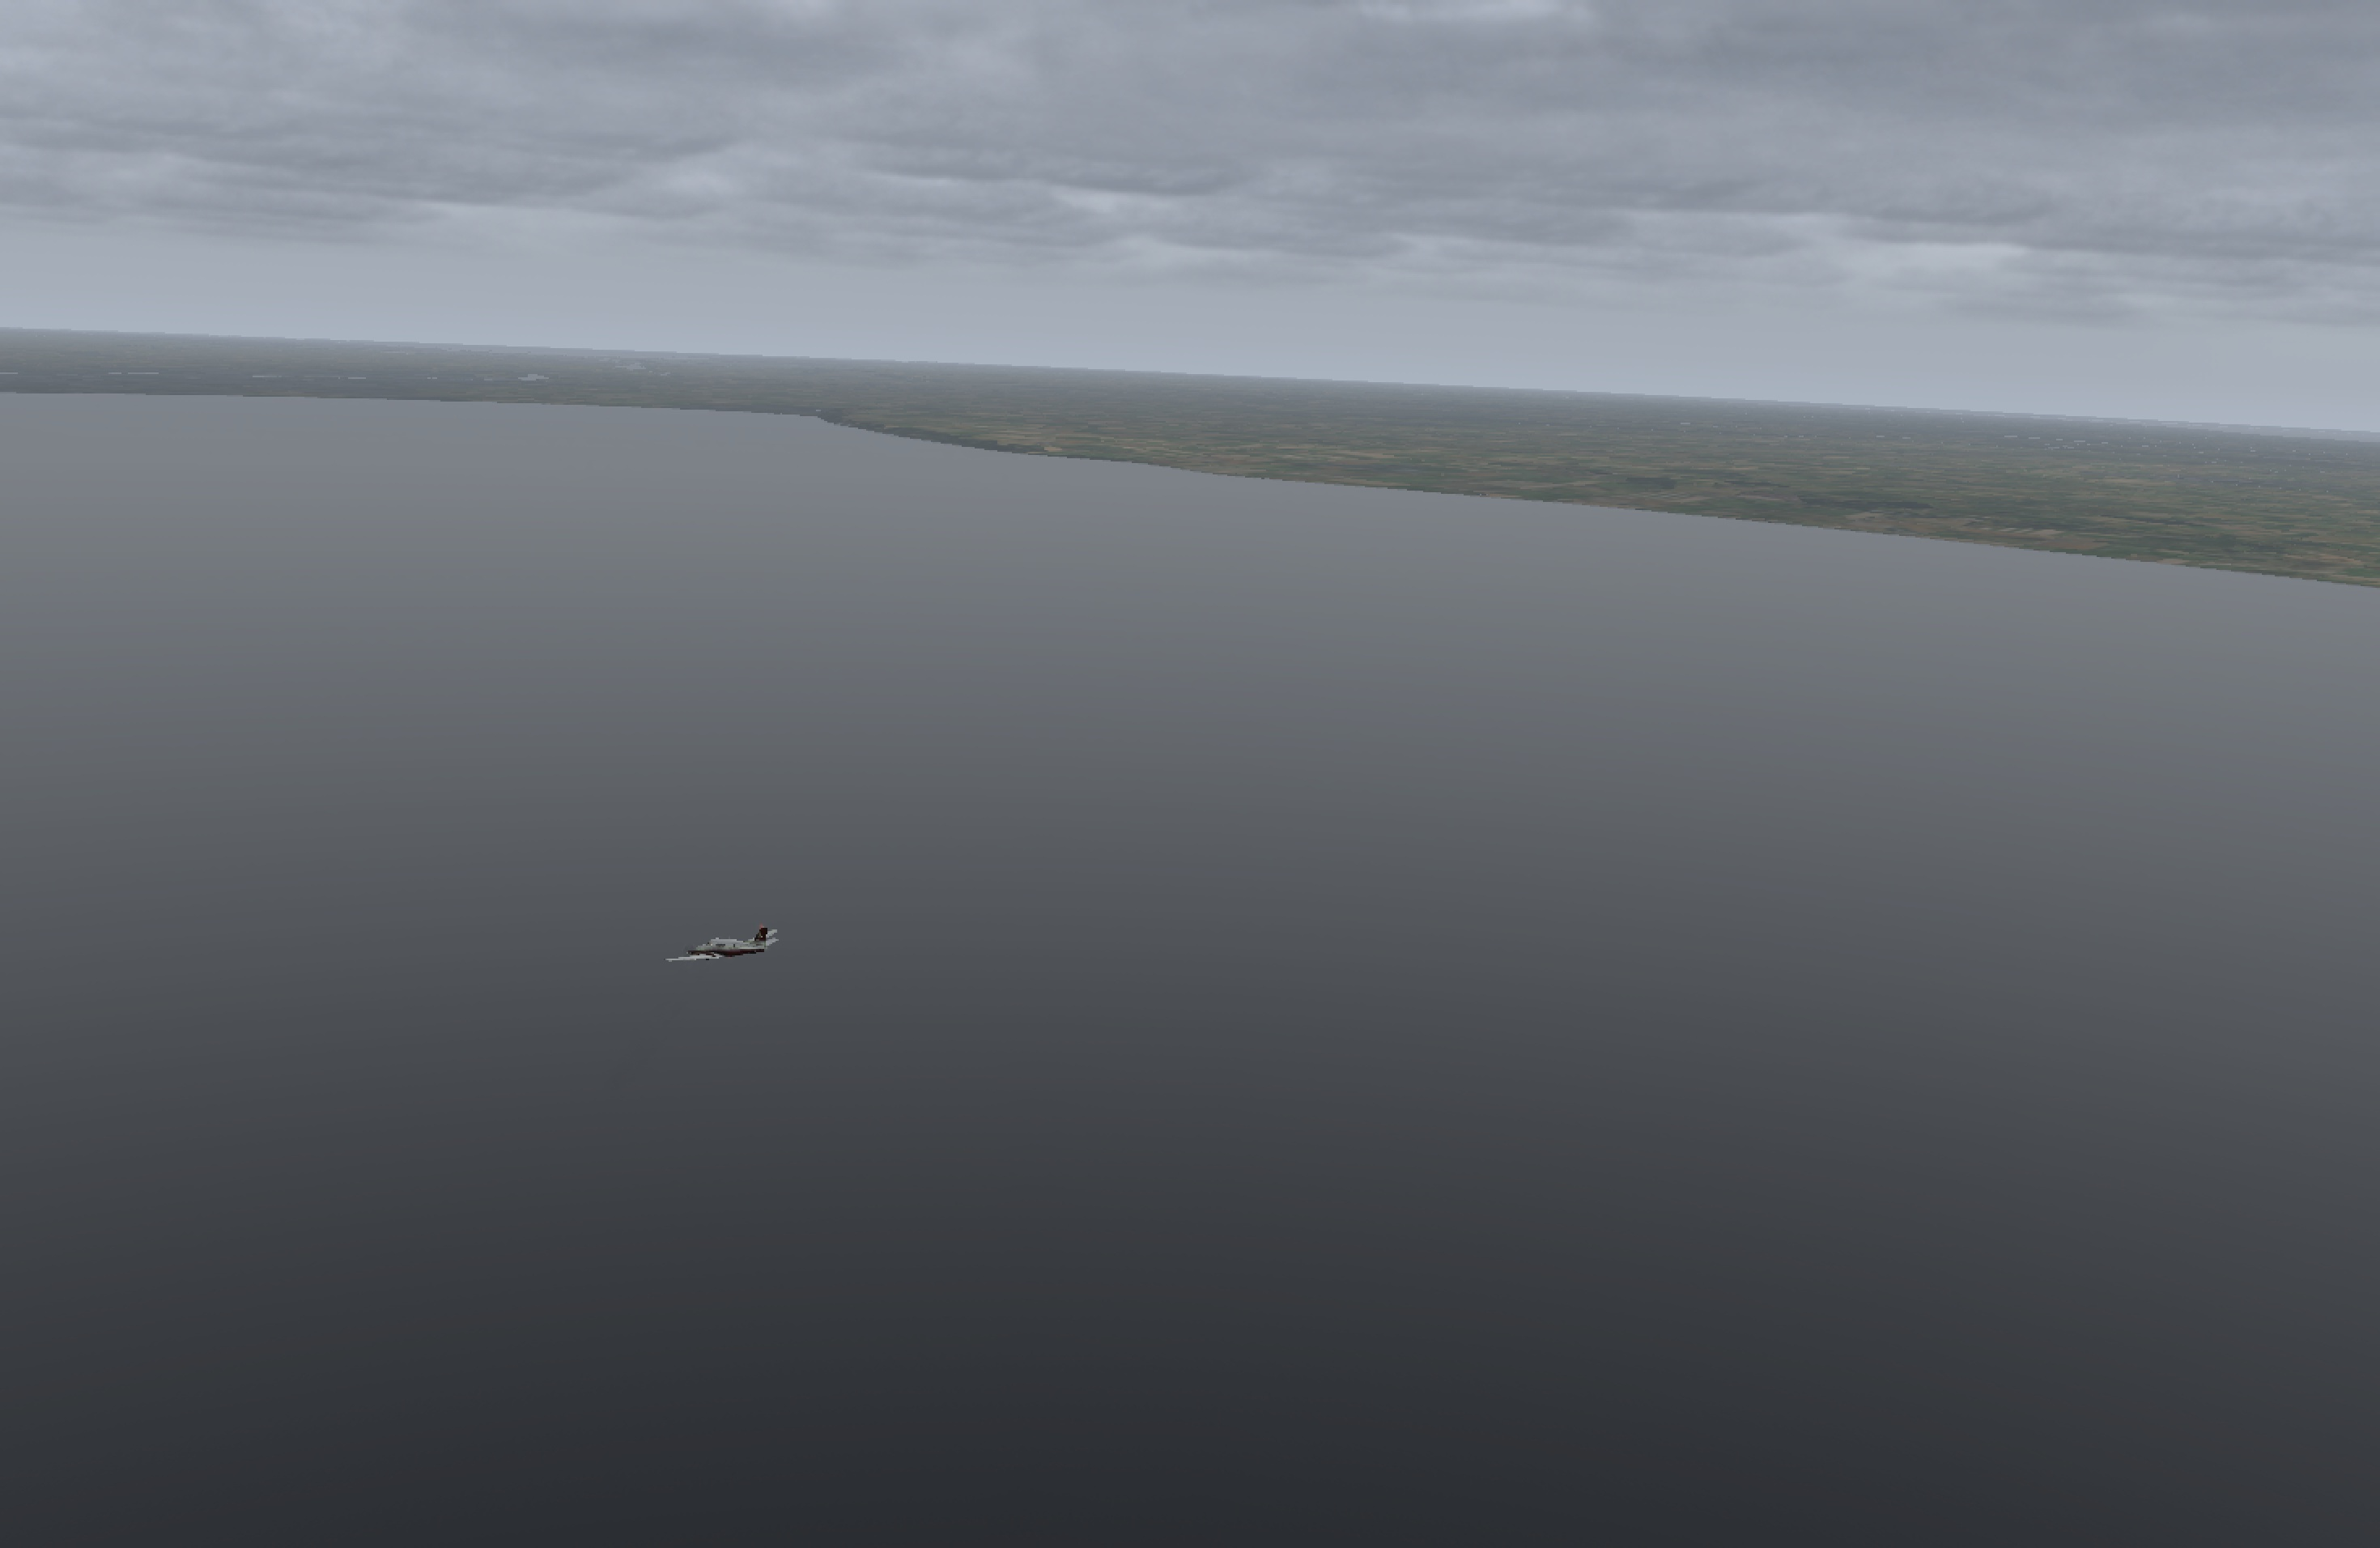aircraft: (649, 927, 793, 981)
